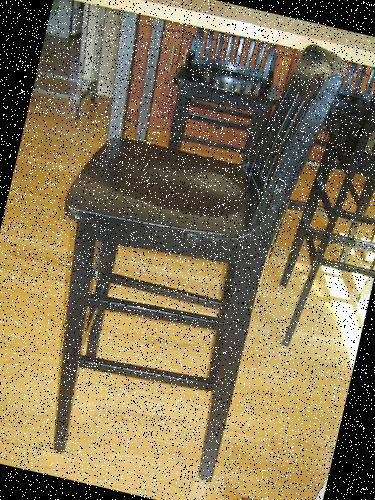Silla: (12, 0, 345, 495)
